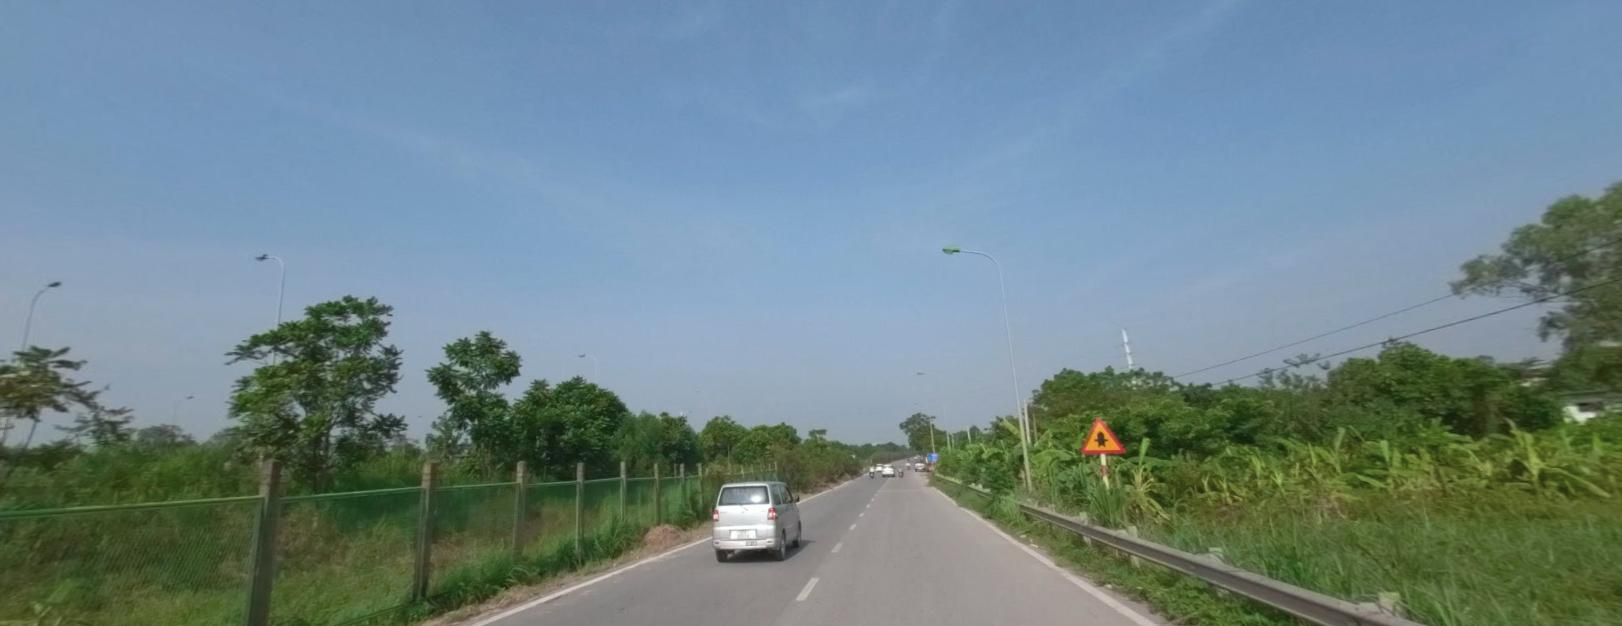Nguy hiem: (1078, 416, 1127, 453)
